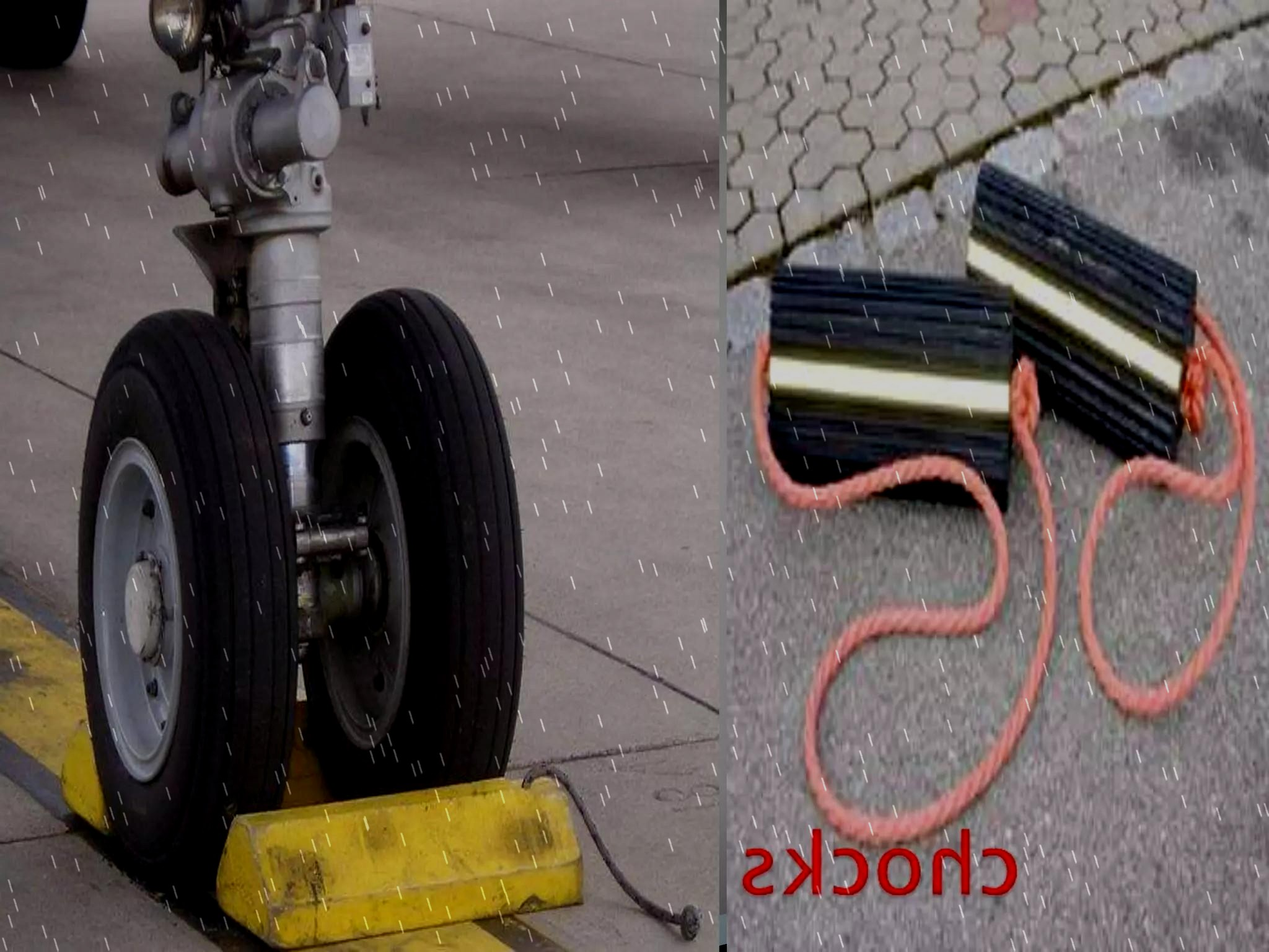chock: (960, 159, 1200, 461), (209, 761, 589, 940), (751, 265, 1017, 509)
wheel: (77, 312, 296, 894), (305, 288, 527, 806), (4, 0, 90, 65)
